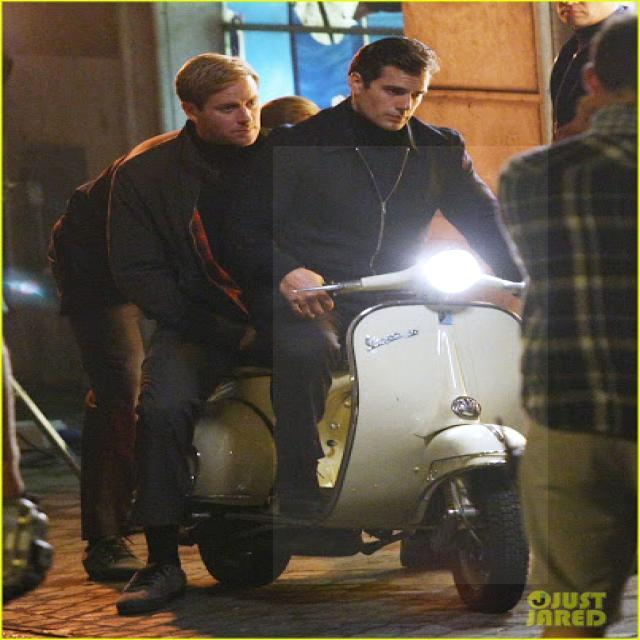Bike: (273, 146, 548, 584)
